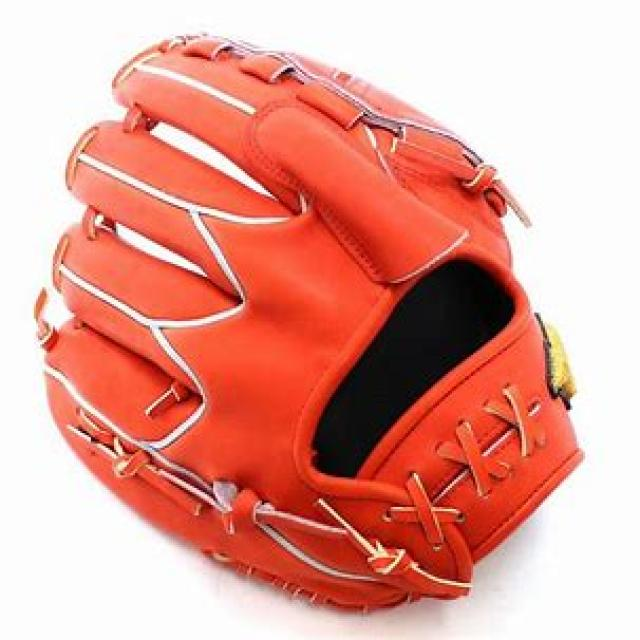glove: (31, 27, 590, 618)
